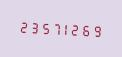five: (39, 18, 49, 36)
nine: (94, 21, 104, 39)
one: (61, 20, 71, 37)
seven: (50, 19, 60, 36)
six: (83, 21, 93, 38)
three: (28, 18, 38, 35)
two: (17, 17, 27, 35), (72, 20, 82, 38)
